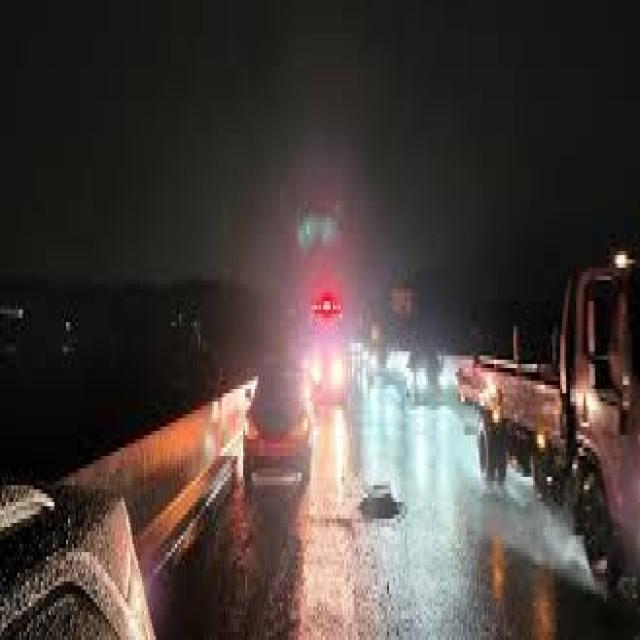pothole: (351, 466, 414, 540)
